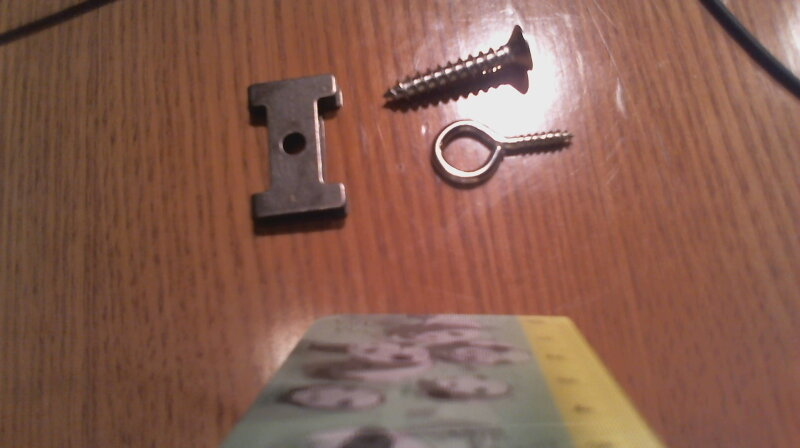O001: (427, 116, 580, 188)
O002: (241, 70, 354, 231)
S001: (377, 20, 543, 109)
